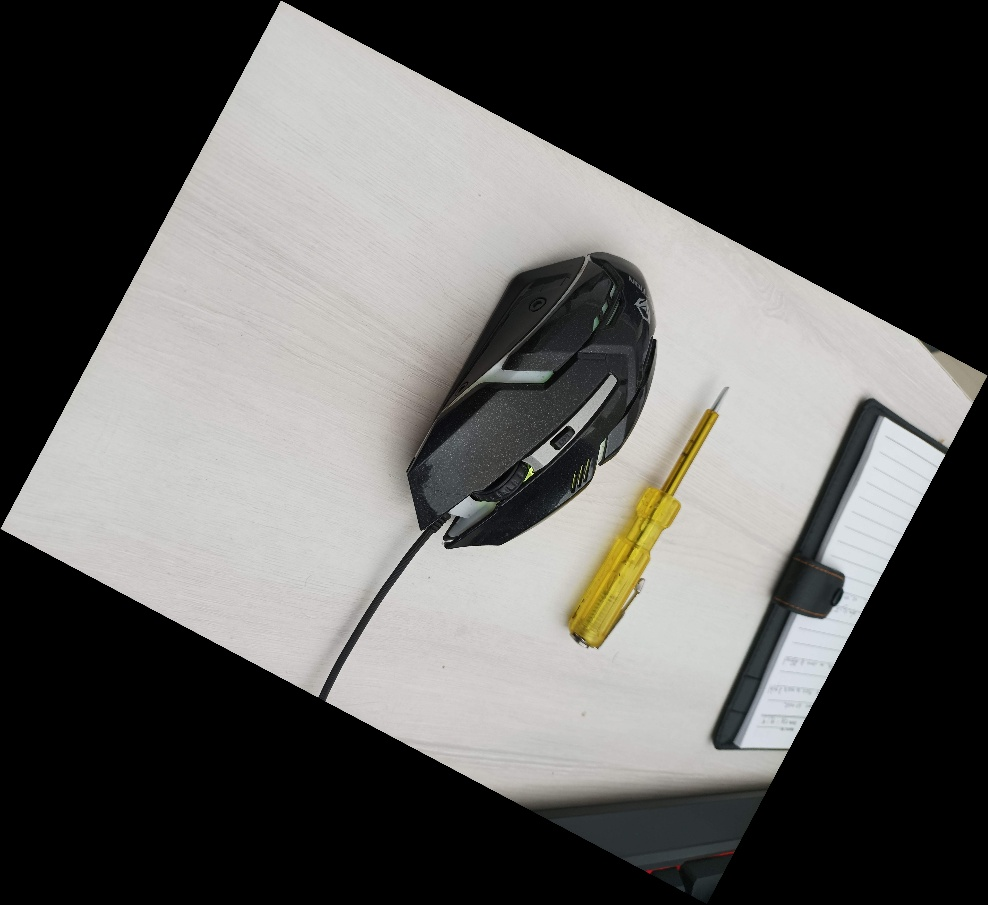mouse: (402, 245, 663, 553)
screwdriver: (565, 382, 732, 651)
